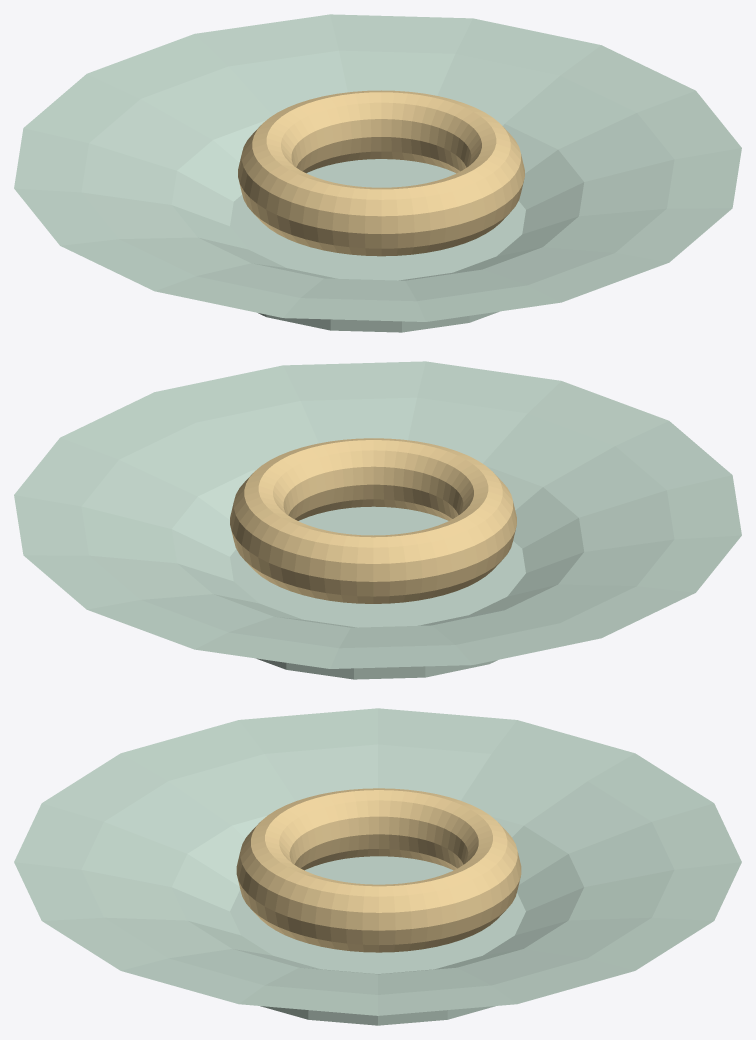
File: Teste.glb
The picture shows the model from 3 angles, top to bottom: view 1: azimuth 30°, elevation 25°; view 2: azimuth 150°, elevation 25°; view 3: azimuth 270°, elevation 25°; orthographic projection.
Visible parts, largest first — view 1: Prato, Rosca; view 2: Prato, Rosca; view 3: Prato, Rosca.
Boxes of the visible parts, x1=… form: Prato: x1=14, y1=14, x2=741, y2=332; Rosca: x1=238, y1=90, x2=524, y2=256; Prato: x1=14, y1=361, x2=741, y2=679; Rosca: x1=230, y1=438, x2=516, y2=603; Prato: x1=14, y1=708, x2=741, y2=1025; Rosca: x1=236, y1=788, x2=521, y2=952.
Bounding box in the file's own units: 0.9835 × 0.1679 × 0.9835.
